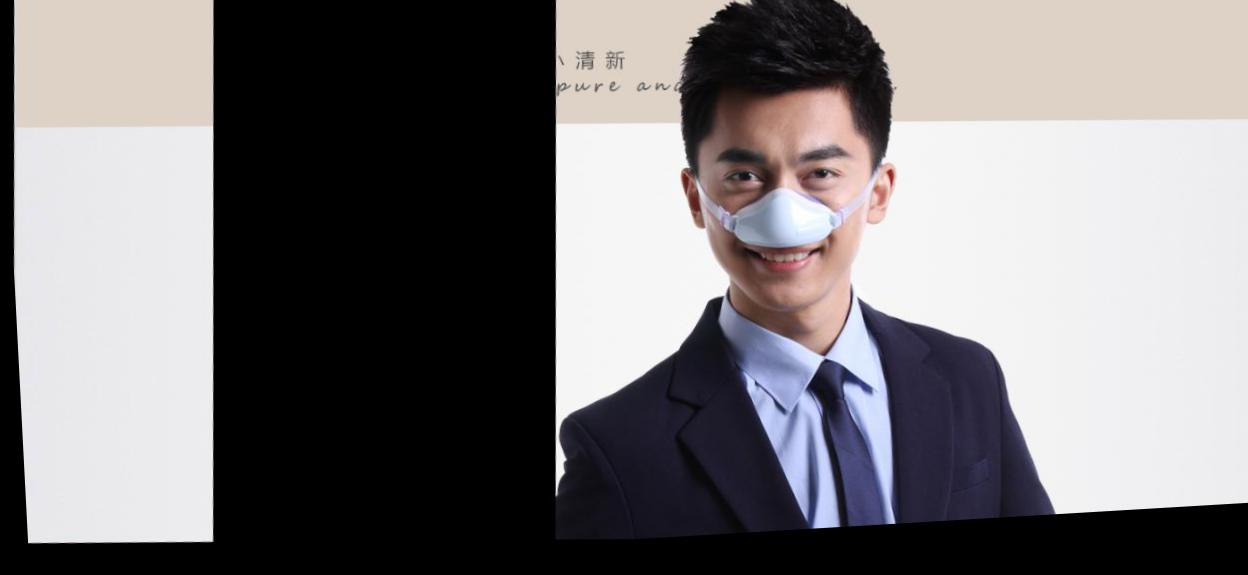WRONG: (685, 137, 875, 327)
